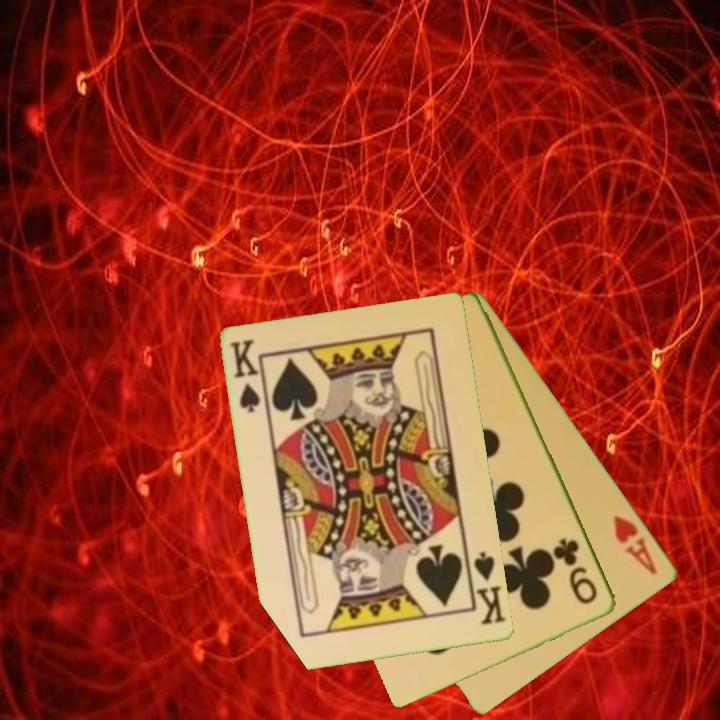9c: (552, 535, 601, 607)
Ah: (610, 511, 661, 578)
Ks: (471, 548, 509, 628), (227, 336, 264, 416)
